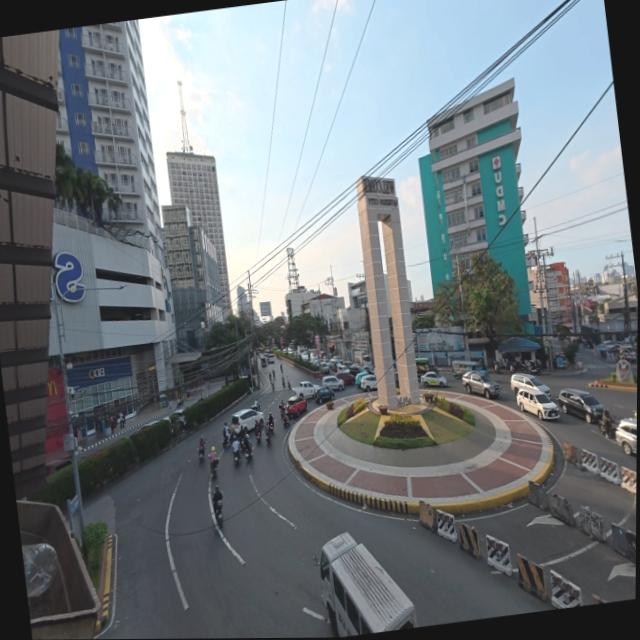car: (419, 368, 448, 391), (354, 371, 377, 392), (320, 373, 344, 393)
